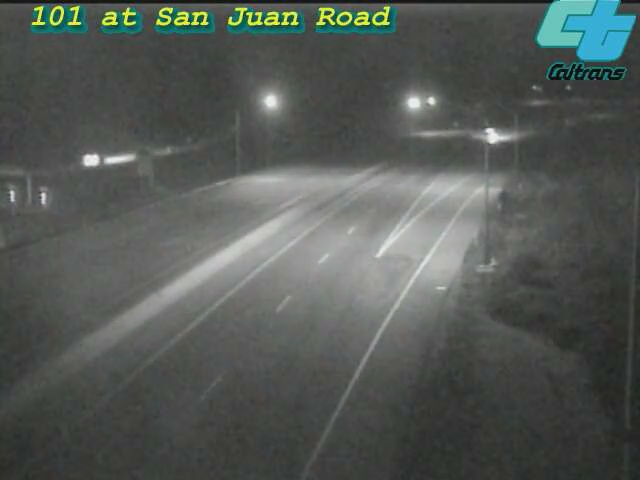vehicle: (467, 110, 517, 160)
